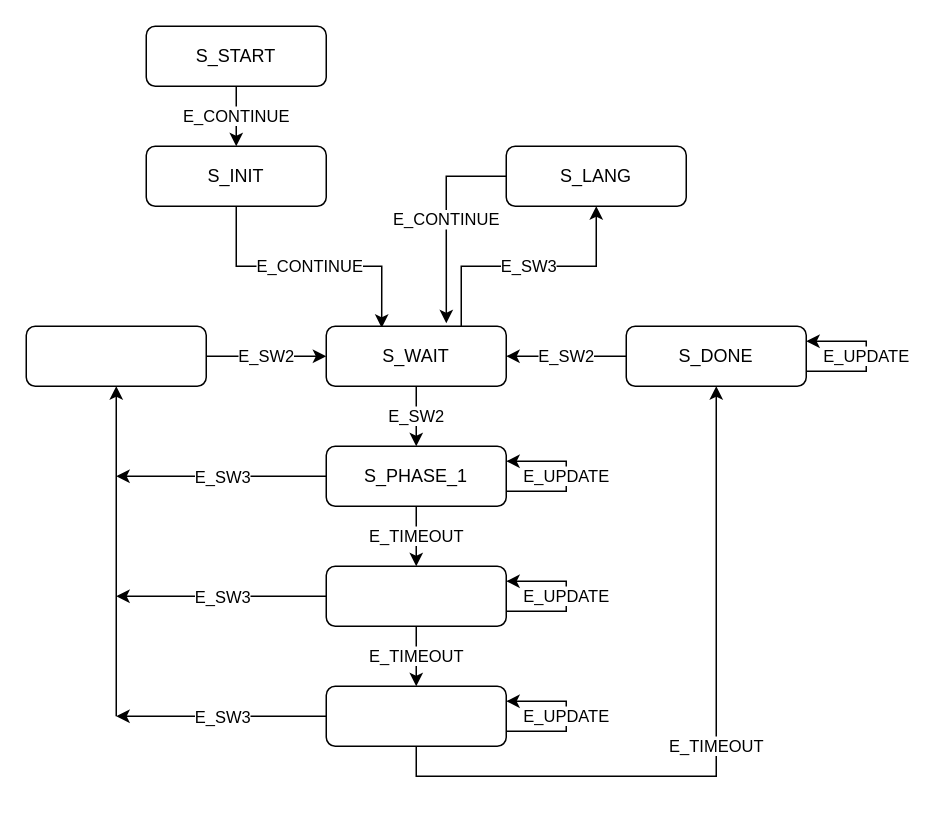
This 935x815 diagram has some shape labels left out. Here are the shapes that lost their labels. From the top down, the centre of each, then its label:
At pixel 115 355: "S_CANCEL".
At pixel 415 595: "S_PHASE_2".
At pixel 415 715: "S_PHASE_3".
